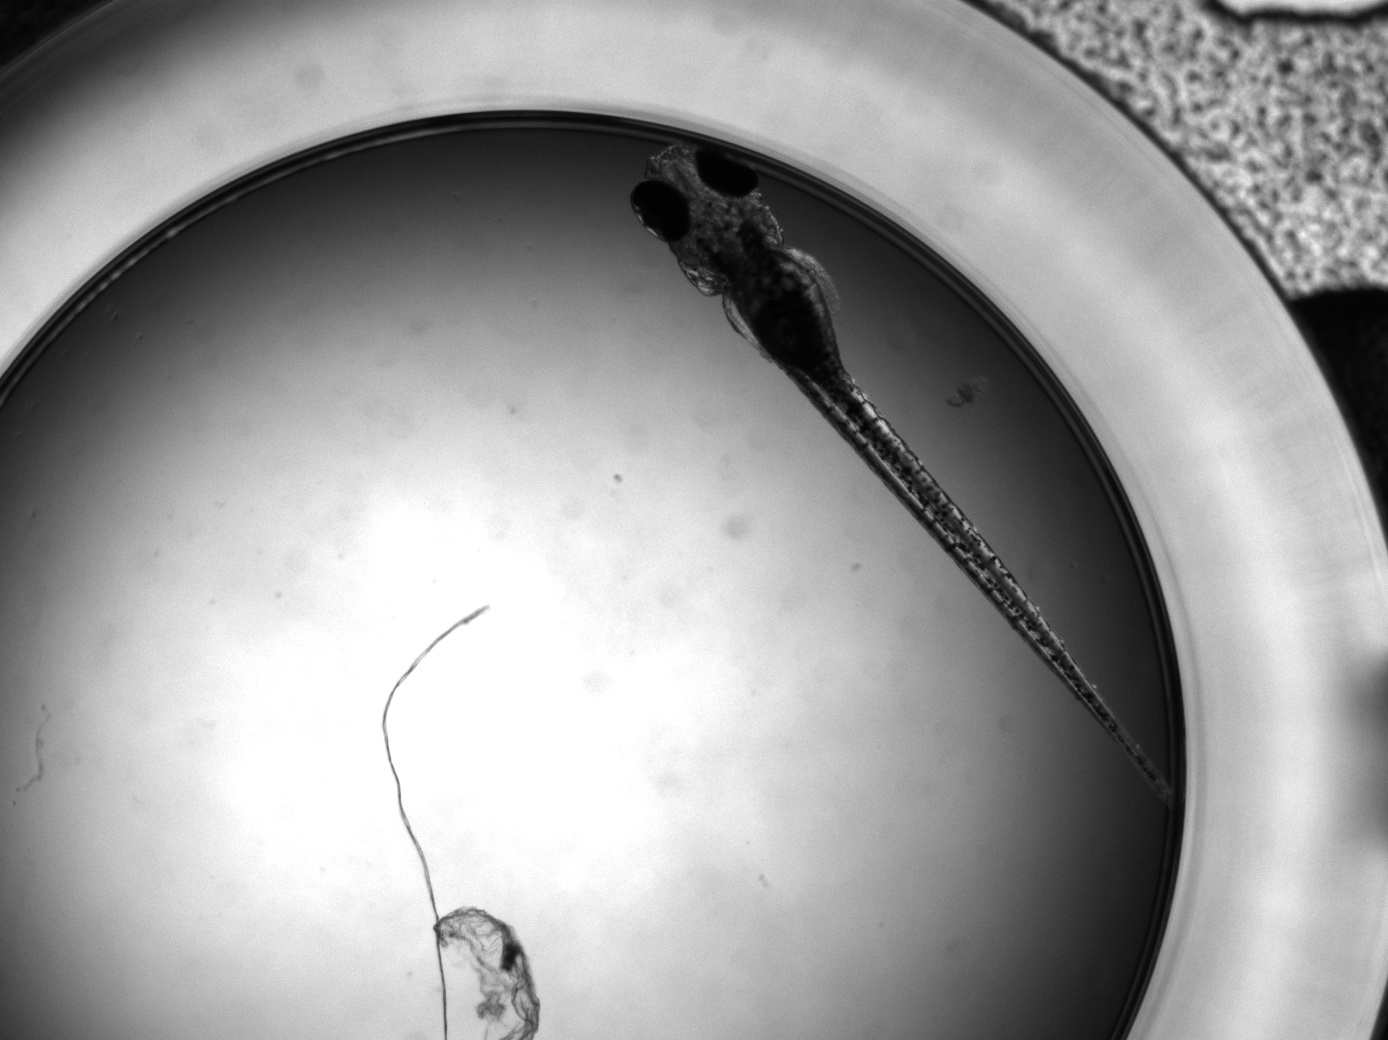debris: (383, 604, 543, 1040)
embryo: (629, 138, 1174, 805)
eye: (630, 180, 693, 243), (696, 144, 761, 200)
yolksac: (723, 249, 858, 397)
